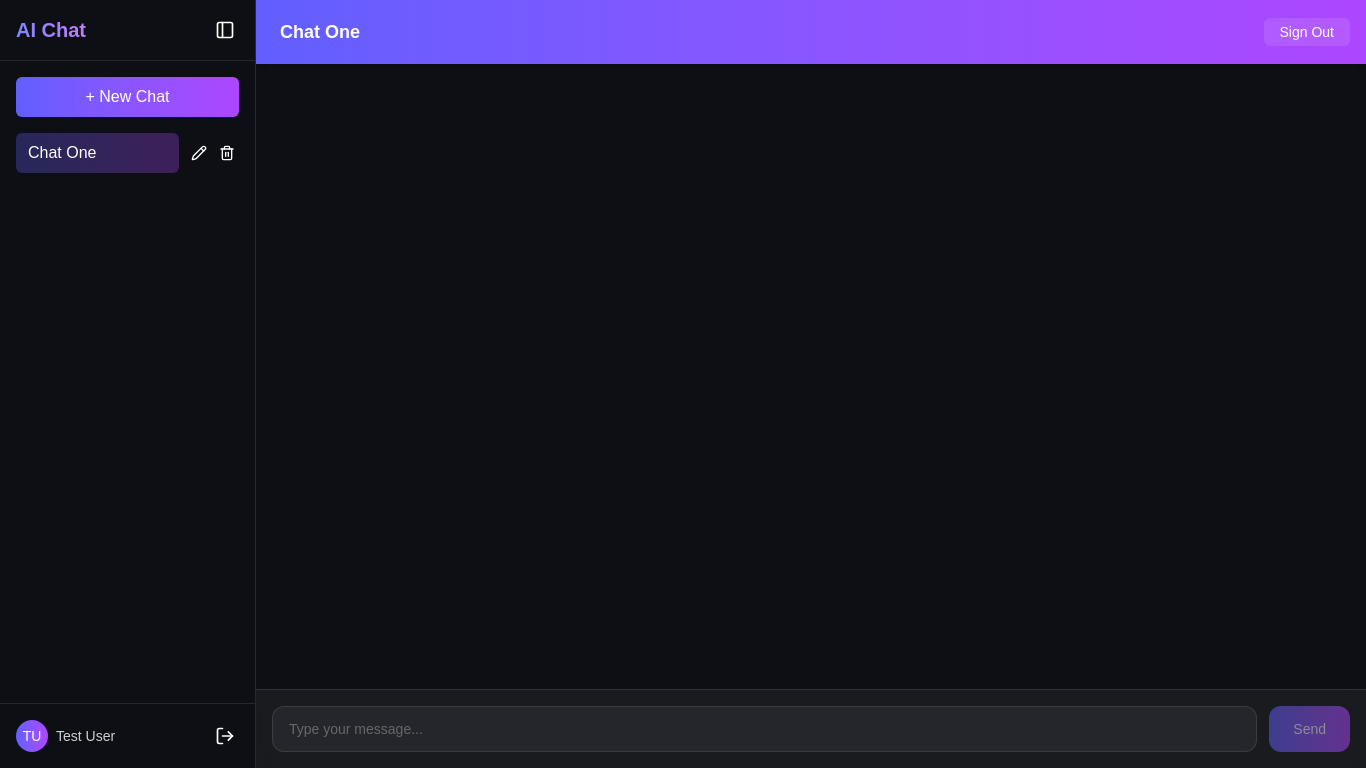
ChatPage Integration Tests › Sidebar Actions › deletes a chat after user confirmation
Click the button named "Delete chat" at (227, 153), box [215,141,239,165]
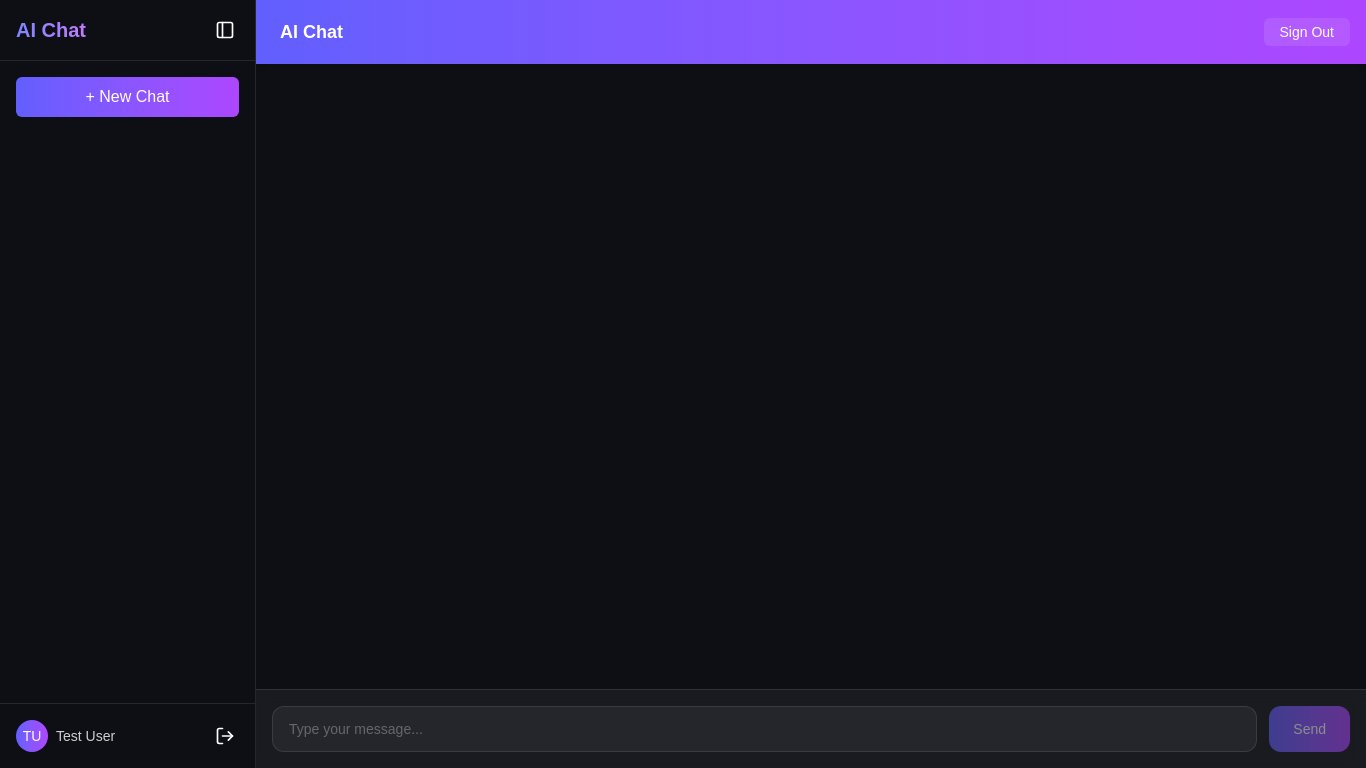
Check: the button "Chat One" is gone
